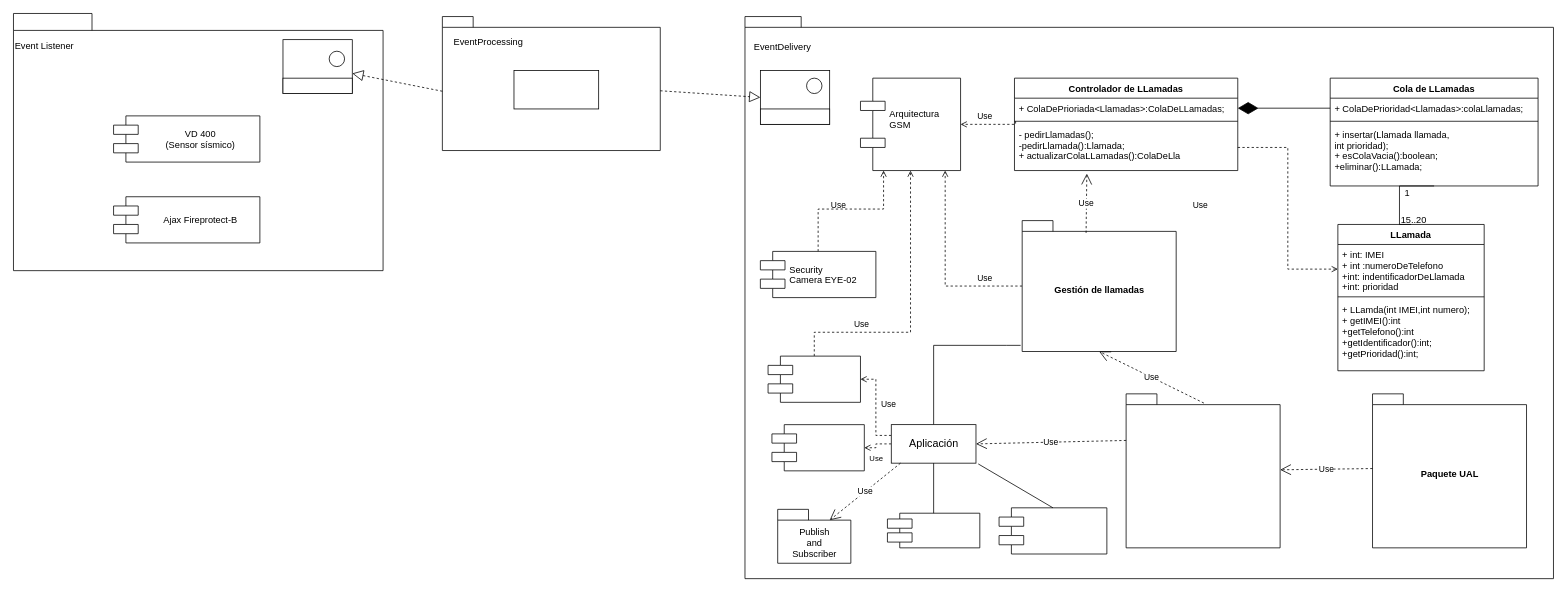
This 1567x592 diagram has some shape labels left out. The shapes that lost their labels are listed below. From the top down, each one's centre as x and y in pixels, then its label:
At point 556,89: "Centro de Control".
At point 813,378: "Wowza Streaming Engine".
At point 817,447: "Oracle Data Base 19C".
At point 1202,470: "Gestión de Alertas".
At point 933,530: "TCC DSP 900".
At point 1052,530: "TRADOS 5 SDL (Software CAT)".
